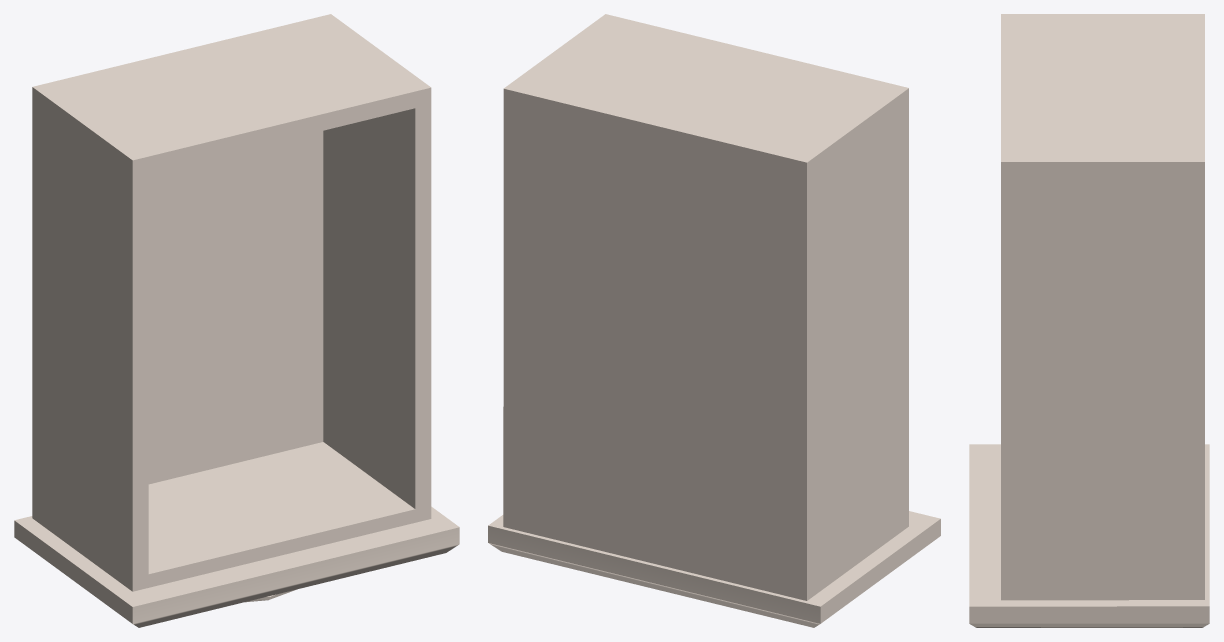
File: MeshSideTableDrawer_003_2_1.obj
3 renders of one model, left to right at view 1: azimuth 30°, elevation 25°; view 2: azimuth 150°, elevation 25°; view 3: azimuth 270°, elevation 25°, orthographic.
Visible parts, largest first — view 1: SideTableDrawer_003_2; view 2: SideTableDrawer_003_2; view 3: SideTableDrawer_003_2.
Part boxes in pixels (x1,y1,x2,y2): SideTableDrawer_003_2: [14, 14, 459, 627]; SideTableDrawer_003_2: [488, 14, 940, 627]; SideTableDrawer_003_2: [969, 14, 1209, 627].
Bounding box in the file's own units: 0.2859 × 0.4078 × 0.1793.
